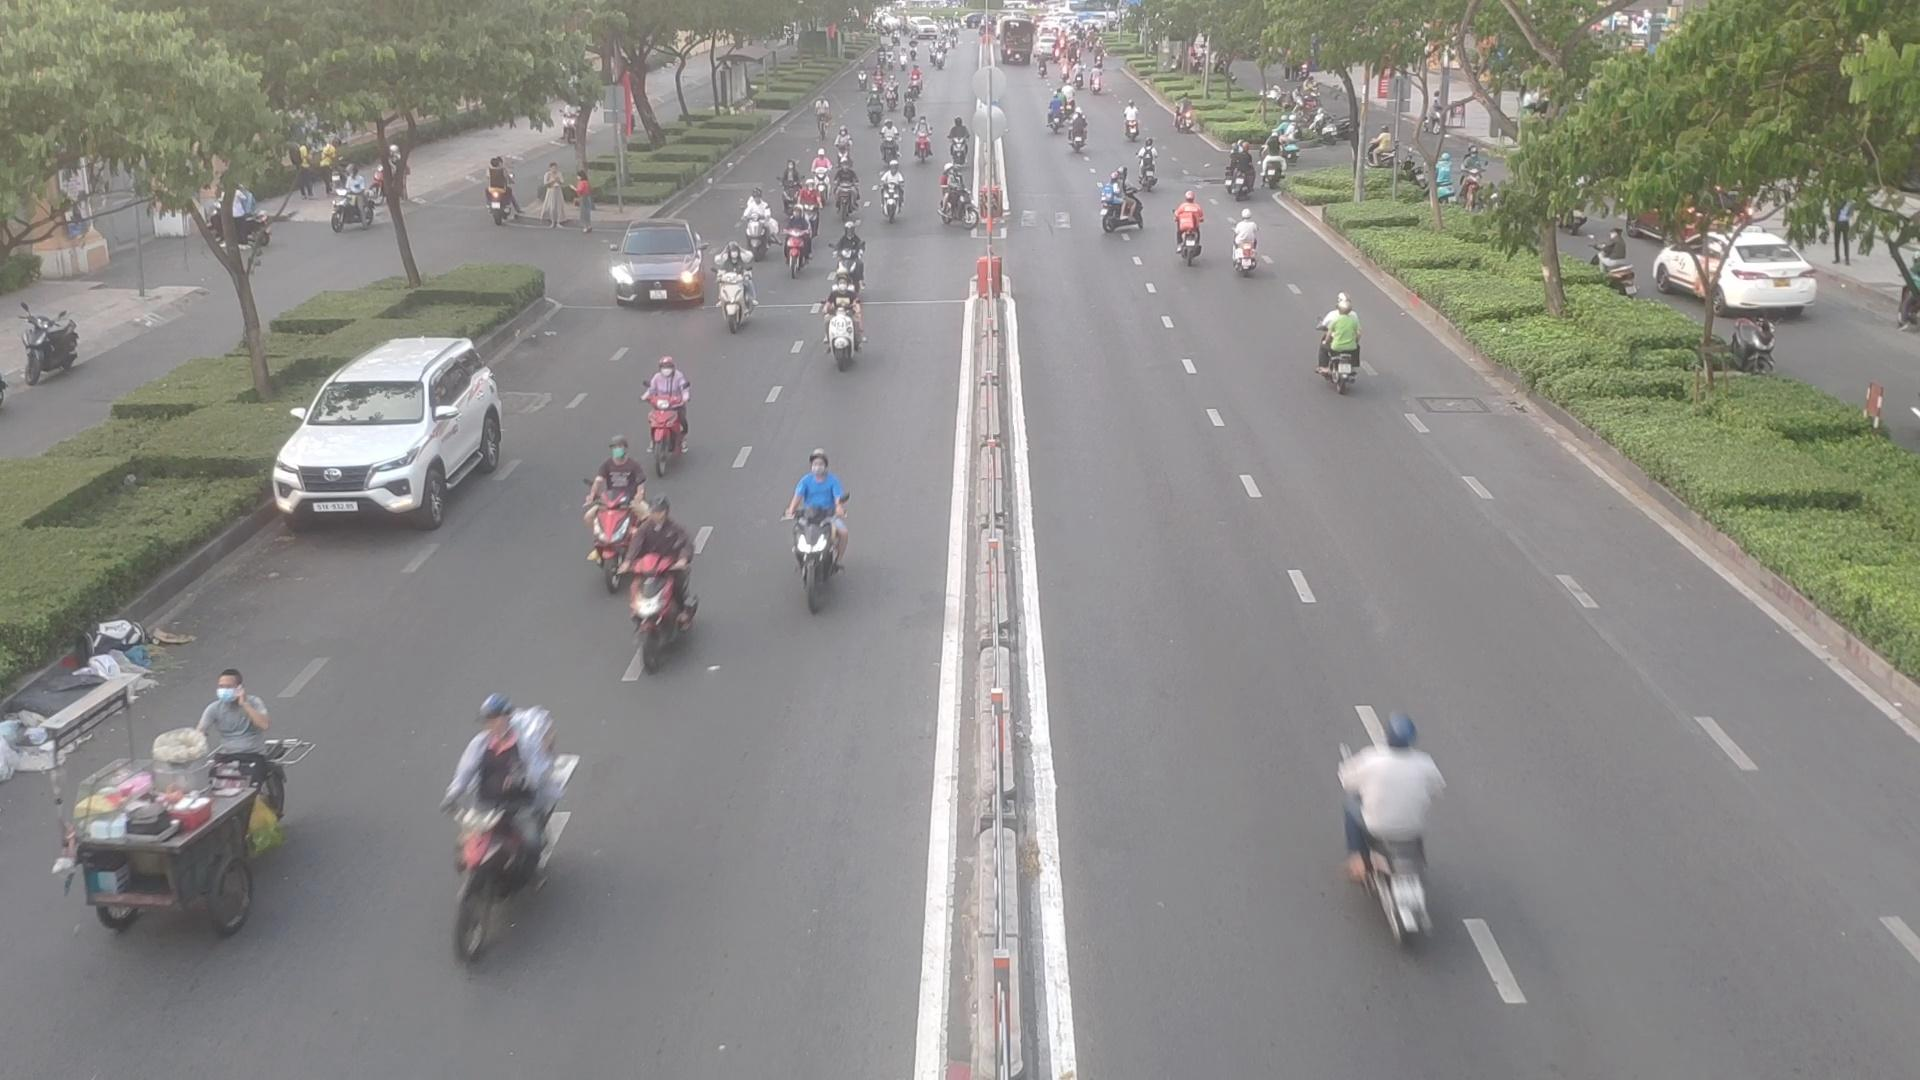car: (268, 340, 518, 527), (616, 220, 705, 311)
motorbike: (53, 749, 273, 934), (436, 694, 585, 909), (1337, 716, 1451, 943), (632, 504, 691, 684), (779, 468, 855, 609), (630, 363, 702, 476), (585, 472, 646, 585), (1316, 307, 1379, 397), (818, 291, 869, 371), (717, 272, 760, 334), (735, 199, 778, 253), (1097, 182, 1139, 237), (1232, 222, 1270, 278), (1174, 208, 1207, 266), (872, 175, 906, 225), (785, 225, 816, 276), (785, 179, 820, 220), (1137, 149, 1170, 193), (1122, 107, 1149, 140)
